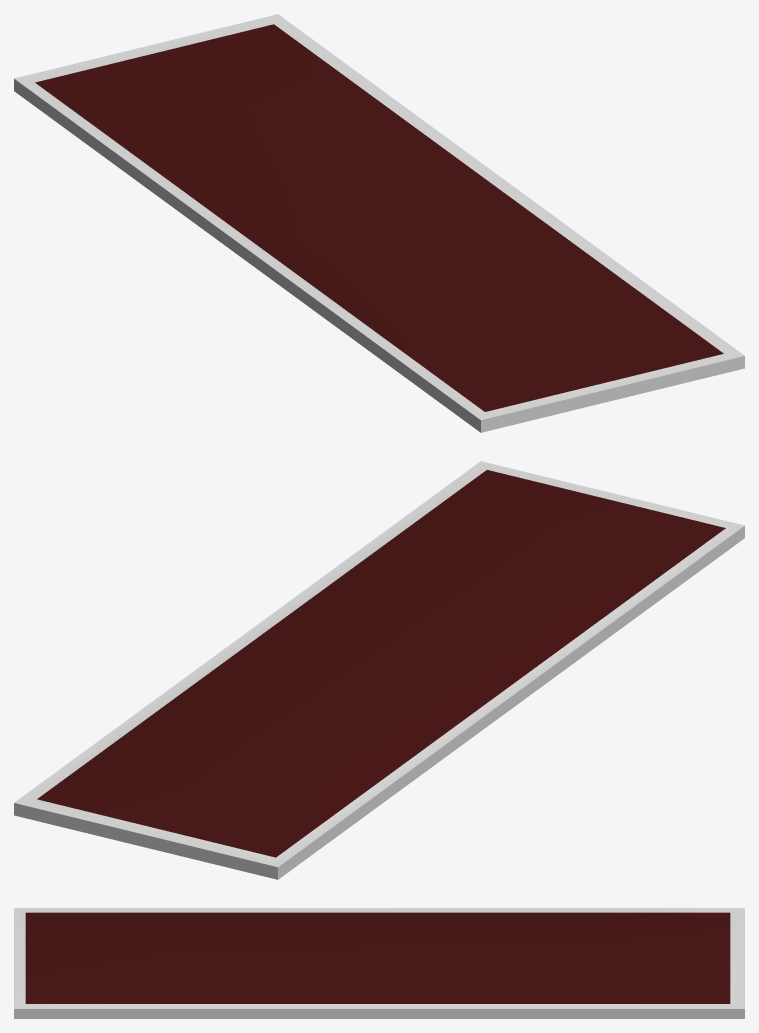
File: Flush_Ceiling_Lights.fbx
The picture shows the model from 3 angles, top to bottom: view 1: azimuth 30°, elevation 25°; view 2: azimuth 150°, elevation 25°; view 3: azimuth 270°, elevation 25°; orthographic projection. The views are drawn at different scales.
Parts seen in each view (by area): view 1: pCube1; view 2: pCube1; view 3: pCube1.
Part boxes in pixels (left/top/right/bottom): pCube1: left=14, top=14, right=744, bottom=432; pCube1: left=14, top=461, right=744, bottom=879; pCube1: left=14, top=908, right=744, bottom=1018.
Bounding box in the file's own units: 1 × 0.0746 × 3.06.
